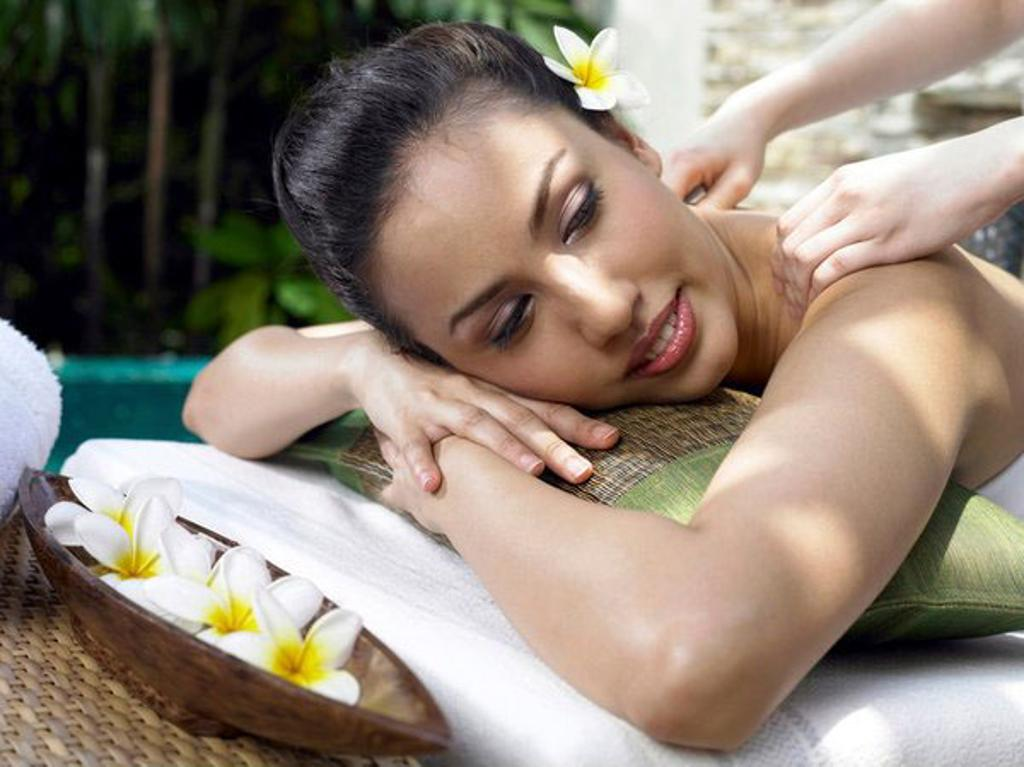face: (390, 138, 736, 408)
